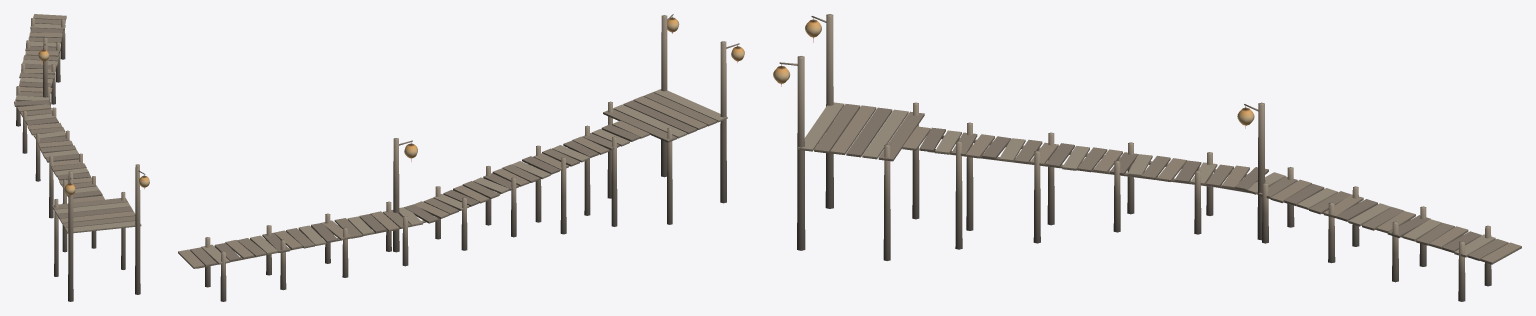
File: east_jetty.glb
3 renders of one model, left to right at view 1: azimuth 30°, elevation 25°; view 2: azimuth 150°, elevation 25°; view 3: azimuth 270°, elevation 25°, orthographic. The views are drawn at different scales.
Visible parts, largest first — view 1: east_jetty; view 2: east_jetty; view 3: east_jetty.
Boxes of the visible parts, x1=… form: east_jetty: x1=14, y1=14, x2=149, y2=301; east_jetty: x1=178, y1=14, x2=744, y2=301; east_jetty: x1=773, y1=14, x2=1521, y2=301.
Size of the model in its own units: 10.12 by 5.45 by 19.21.
